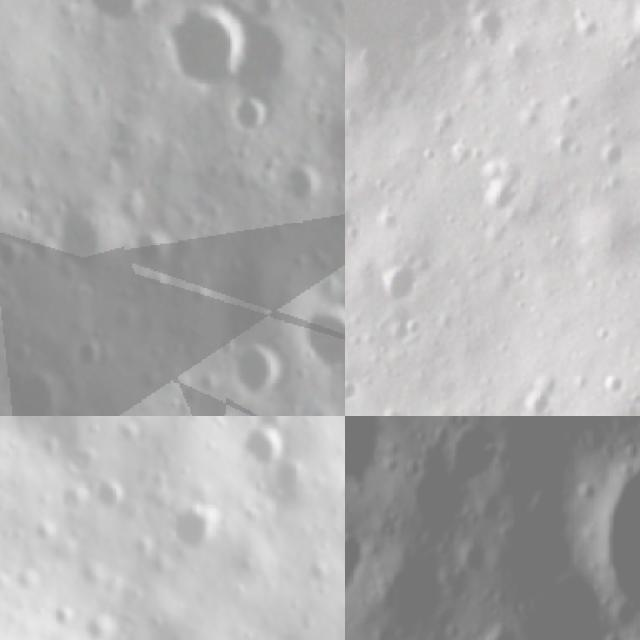crater: (410, 419, 506, 536), (586, 445, 640, 639), (173, 0, 254, 86), (572, 192, 640, 275), (51, 208, 102, 276), (473, 161, 530, 221), (235, 337, 286, 402), (345, 524, 381, 612), (306, 294, 345, 371), (370, 259, 425, 313), (5, 371, 70, 416), (345, 416, 384, 491), (167, 504, 220, 553), (237, 419, 285, 470), (87, 0, 153, 36), (467, 1, 509, 51), (132, 225, 177, 268), (381, 308, 423, 354), (227, 98, 271, 138), (285, 160, 319, 210), (548, 125, 587, 167), (594, 135, 632, 177), (326, 111, 345, 194), (511, 99, 549, 140), (564, 10, 603, 48), (373, 197, 407, 239), (619, 0, 640, 62), (513, 382, 550, 416), (71, 338, 110, 368), (79, 609, 116, 640), (94, 476, 125, 512), (114, 189, 152, 218), (598, 366, 629, 401), (300, 556, 334, 586), (0, 236, 25, 273), (472, 622, 521, 640), (4, 341, 40, 365), (46, 604, 76, 632), (345, 369, 360, 409), (418, 140, 438, 165), (0, 287, 12, 324), (334, 479, 345, 516)
